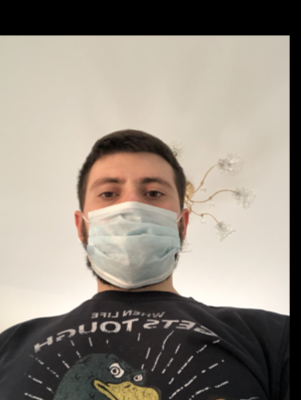with_mask: (83, 169, 180, 288)
